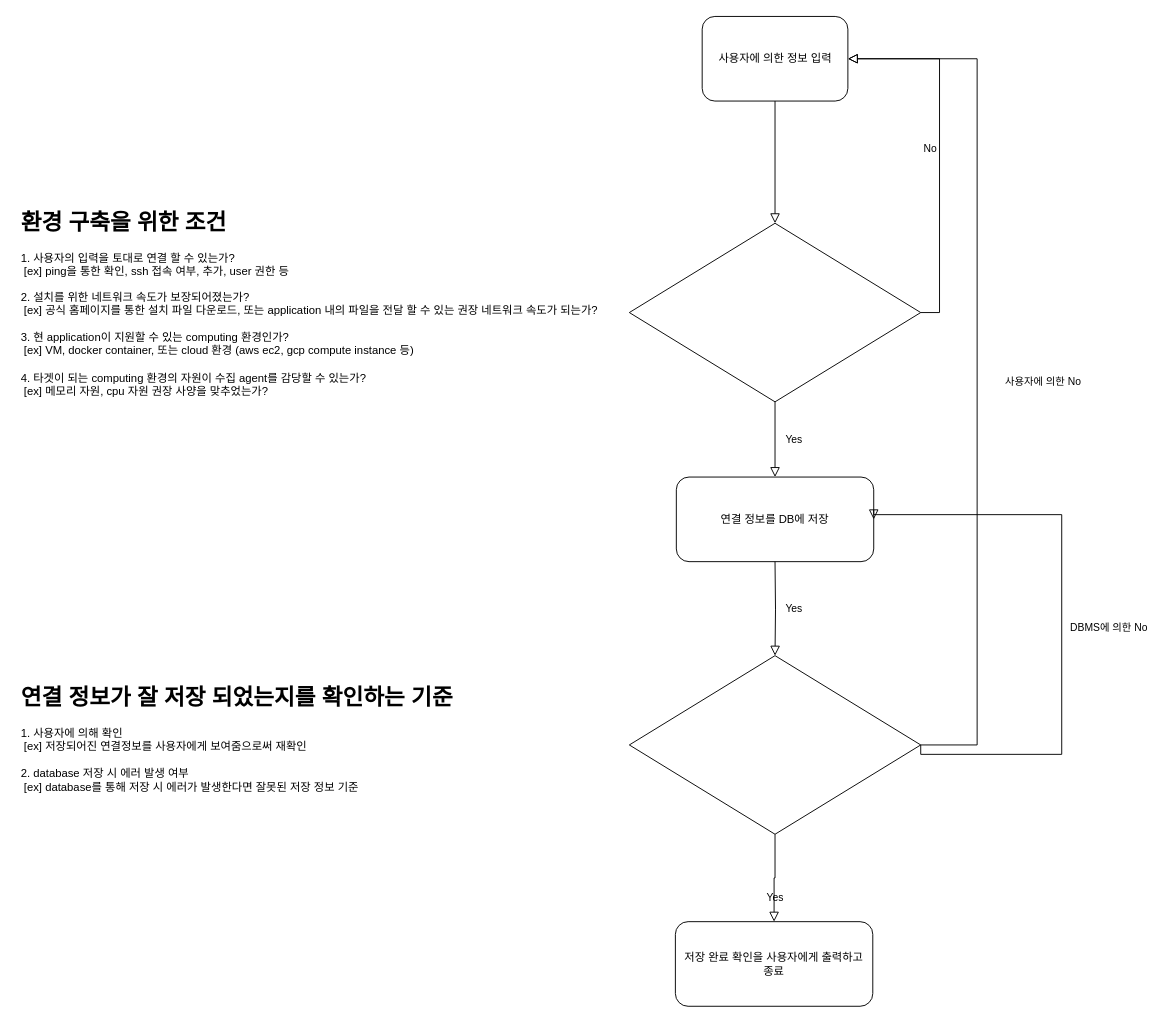
Image size: 1163x1023. Some labels were removed from this diagram. Here are the shapes that lost their labels. From the top down, the centre of each, then its label:
pixel 774 312: 입력한 정보를 토대로 ETL 환경을 구축할 수 있는가?
pixel 774 744: 연결정보가 잘 저장되었는가?
